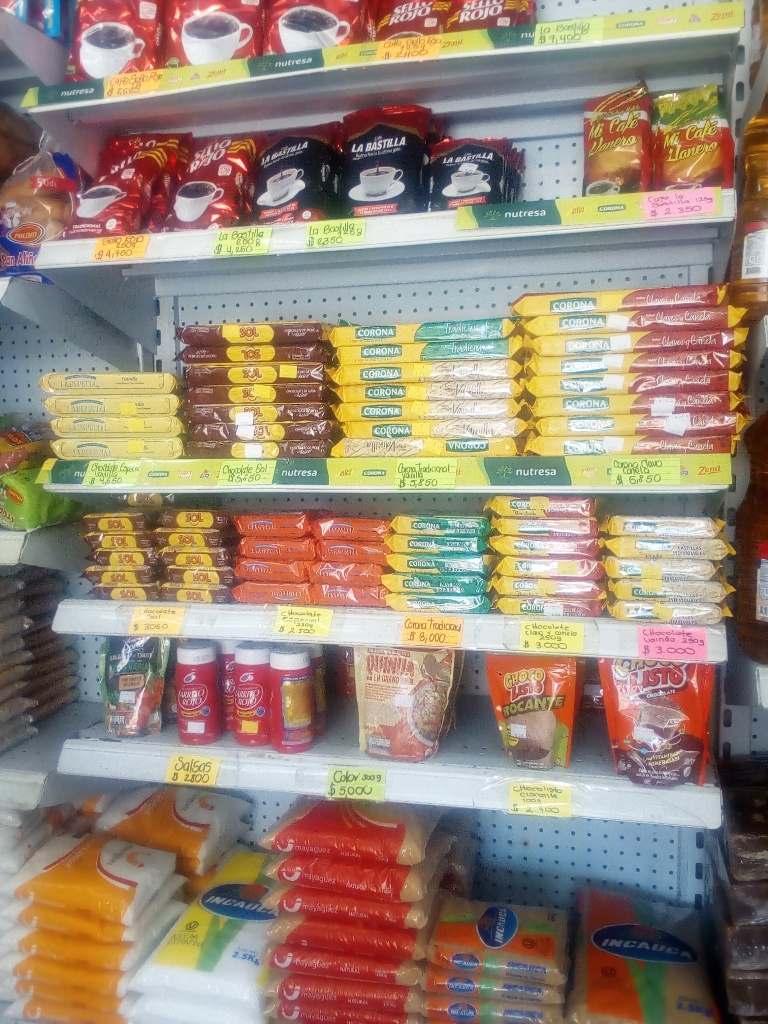COL0170102DYP10000: (487, 648, 583, 770)
COL0170103DYP20000: (598, 654, 712, 790)
